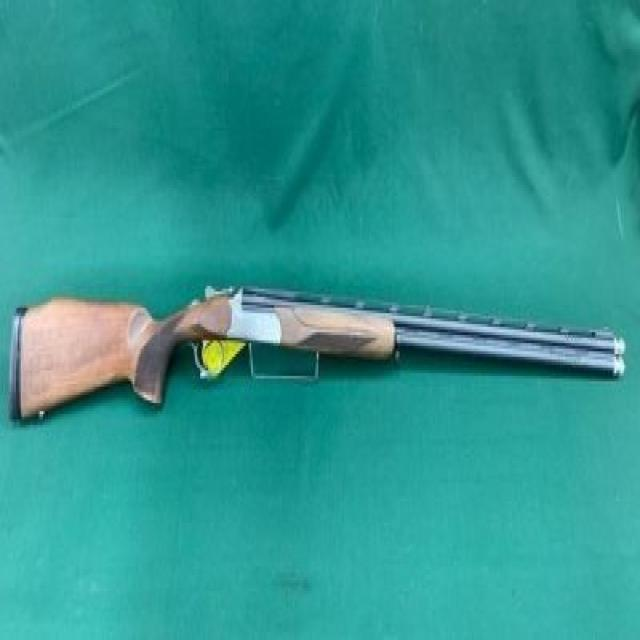ShotGun: (13, 286, 627, 422)
